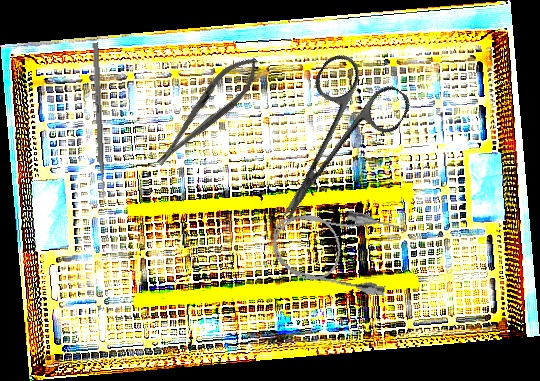Cannula: (265, 197, 408, 299)
Iris Scissors: (242, 48, 416, 242)
Needle Holder: (145, 46, 269, 176)
Pusher: (92, 42, 107, 206)
